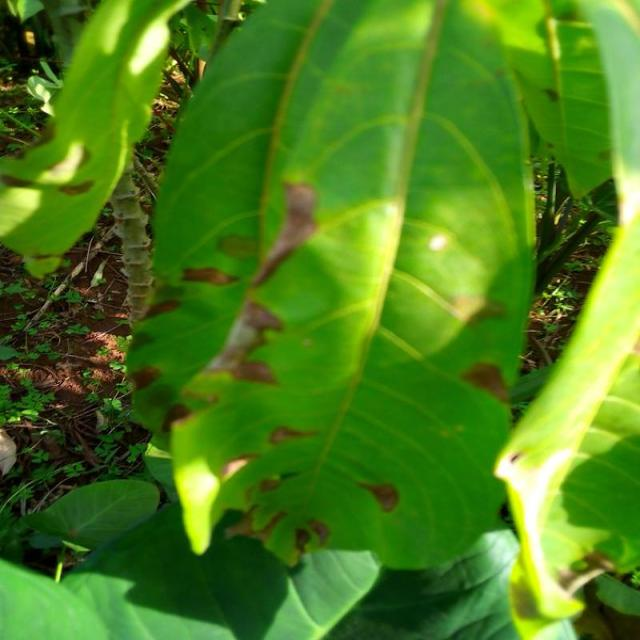cassava leaf: (126, 0, 539, 573)
